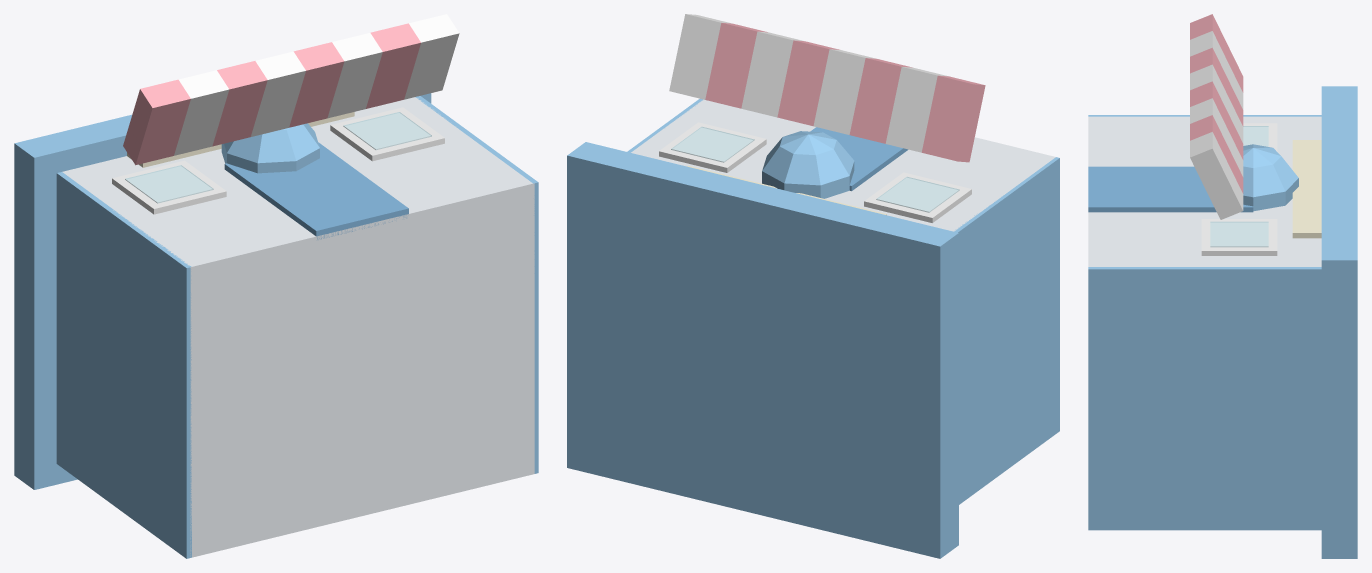
File: shop_front.glb
3 renders of one model, left to right at view 1: azimuth 30°, elevation 25°; view 2: azimuth 150°, elevation 25°; view 3: azimuth 270°, elevation 25°, orthographic. The views are drawn at different scales.
Parts seen in each view (by area): view 1: Body, Trim-2.62, Roof, Door, Aw0, WinFrame-1.65, WinFrame1.65, DoorArch, Aw4, Aw1, Aw2, Aw7 (+7 smaller); view 2: Roof, Trim-2.62, Body, DoorArch, Aw0, WinFrame1.65, WinFrame-1.65, Aw4, Aw3, Aw7, Aw2, Aw6 (+5 smaller); view 3: Trim2.62, Roof, Body, Door, DoorArch, SignBg, WinFrame1.65, Aw7, WinGlass1.65, Aw5, Aw4, Aw6 (+7 smaller).
Boxes of the visible parts, box(x1,y1,x2,y2) form: Body: box(62, 97, 534, 557); Trim-2.62: box(56, 172, 191, 558); Roof: box(14, 93, 431, 489); Door: box(224, 142, 408, 239); Aw0: box(123, 79, 190, 165); WinFrame-1.65: box(112, 160, 226, 214); WinFrame1.65: box(330, 107, 444, 161); DoorArch: box(221, 123, 319, 173); Aw4: box(289, 42, 344, 127); Aw1: box(174, 70, 229, 155); Aw2: box(212, 61, 267, 146); Aw7: box(404, 14, 459, 99); Roof: box(567, 142, 958, 558); Trim-2.62: box(954, 157, 1059, 504); Body: box(631, 99, 1055, 231); DoorArch: box(762, 131, 854, 198); Aw0: box(921, 75, 985, 162); WinFrame1.65: box(659, 122, 766, 172); WinFrame-1.65: box(864, 172, 971, 222); Aw4: box(777, 40, 839, 126); Aw3: box(813, 49, 875, 134); Aw7: box(669, 14, 731, 99); Aw2: box(849, 58, 912, 143); Aw6: box(705, 23, 767, 108); Trim2.62: box(1088, 267, 1321, 530); Roof: box(1321, 86, 1357, 558); Body: box(1088, 116, 1321, 266); Door: box(1088, 166, 1253, 212); DoorArch: box(1243, 144, 1298, 211); SignBg: box(1292, 140, 1321, 238); WinFrame1.65: box(1201, 219, 1277, 255); Aw7: box(1190, 132, 1243, 219); WinGlass1.65: box(1210, 221, 1268, 247); Aw5: box(1190, 98, 1243, 176); Aw4: box(1190, 81, 1243, 159); Aw6: box(1190, 115, 1243, 193).
Bounding box in the file's own units: 6 × 6.28 × 3.92.
